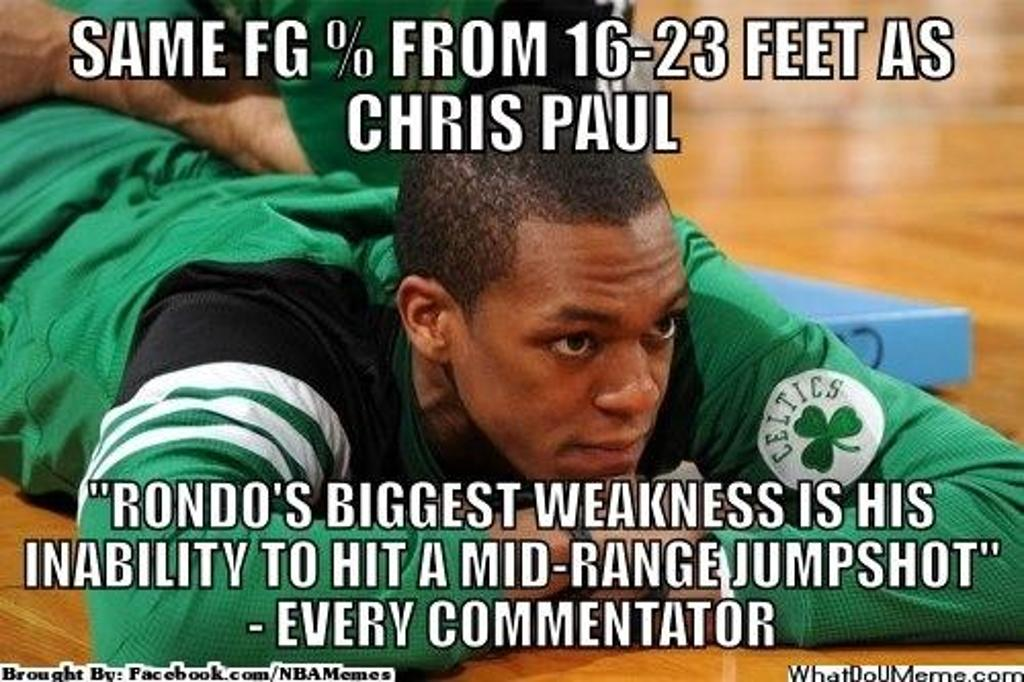face: (472, 176, 686, 486)
